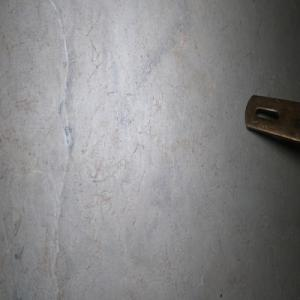MetalPart: (243, 92, 300, 148)
